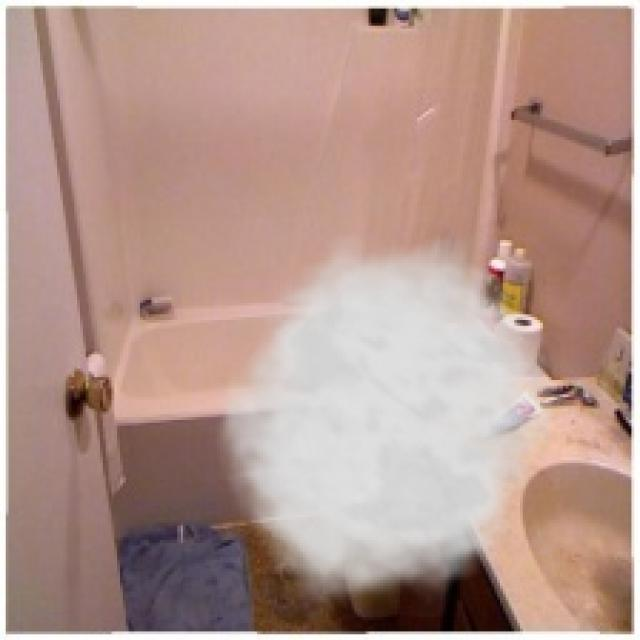Smoke: (208, 232, 572, 617)
